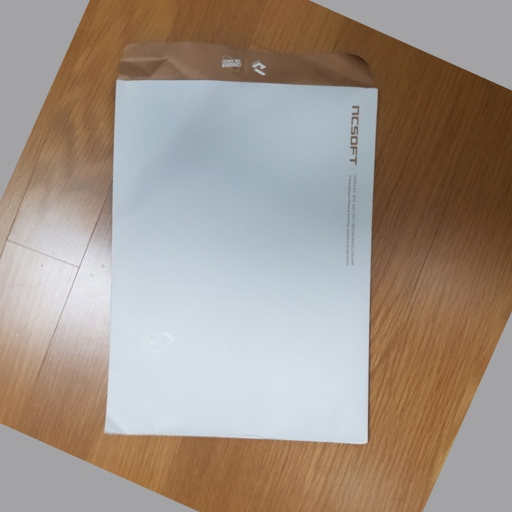Paper_2: (95, 32, 385, 466)
